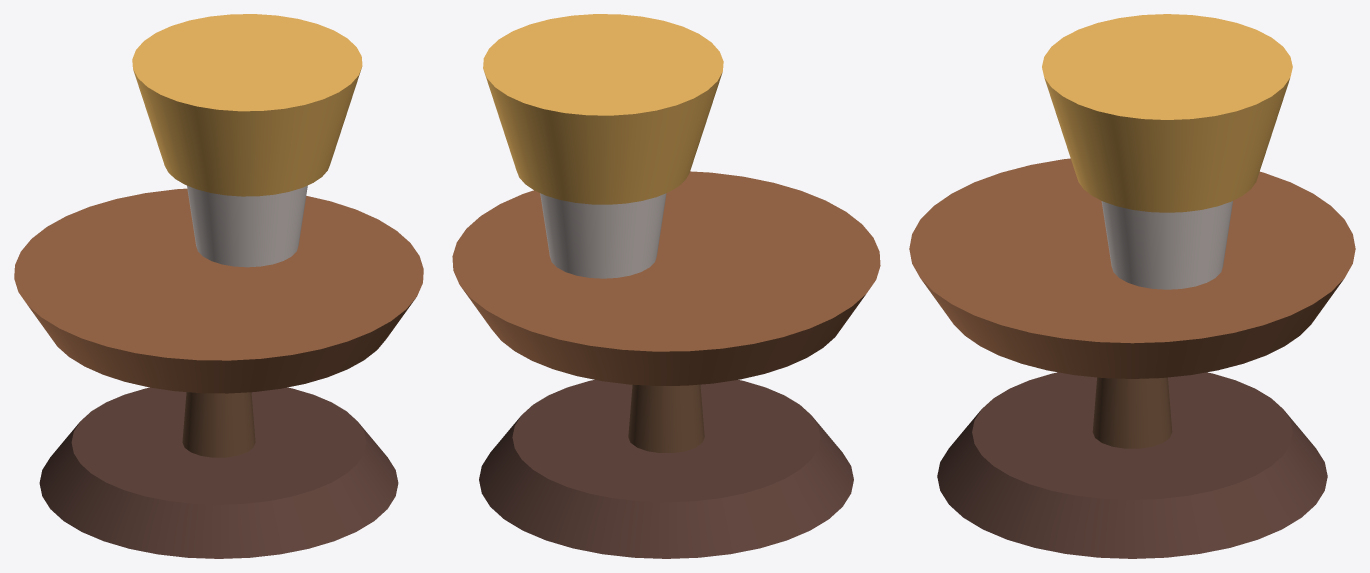
Rendered from side-table.glb.
The picture shows the model from 3 angles, left to right: view 1: azimuth 30°, elevation 25°; view 2: azimuth 150°, elevation 25°; view 3: azimuth 270°, elevation 25°; orthographic projection. The views are drawn at different scales.
Visible parts, largest first — view 1: rounded table top, weighted round base, warm mini lamp shade, ceramic lamp body, turned pedestal stem; view 2: rounded table top, weighted round base, warm mini lamp shade, ceramic lamp body, turned pedestal stem; view 3: rounded table top, weighted round base, warm mini lamp shade, ceramic lamp body, turned pedestal stem.
Part boxes in pixels (bbox=[...]): rounded table top: bbox=[14, 188, 423, 393]; weighted round base: bbox=[39, 387, 398, 558]; warm mini lamp shade: bbox=[132, 14, 362, 196]; ceramic lamp body: bbox=[187, 185, 307, 267]; turned pedestal stem: bbox=[182, 392, 255, 457]; rounded table top: bbox=[452, 171, 880, 385]; weighted round base: bbox=[479, 380, 853, 558]; warm mini lamp shade: bbox=[483, 14, 723, 204]; ceramic lamp body: bbox=[540, 193, 666, 278]; turned pedestal stem: bbox=[628, 384, 704, 452]; rounded table top: bbox=[909, 158, 1355, 378]; weighted round base: bbox=[937, 372, 1327, 558]; warm mini lamp shade: bbox=[1042, 14, 1292, 212]; ceramic lamp body: bbox=[1101, 201, 1232, 289]; turned pedestal stem: bbox=[1092, 377, 1172, 448].
Size of the model in its own units: 0.64 by 0.685 by 0.64.
